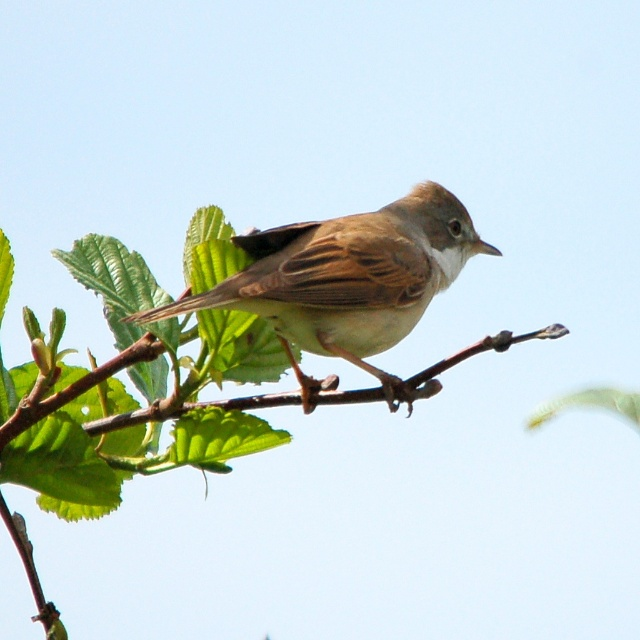Sparrow: (116, 175, 502, 416)
